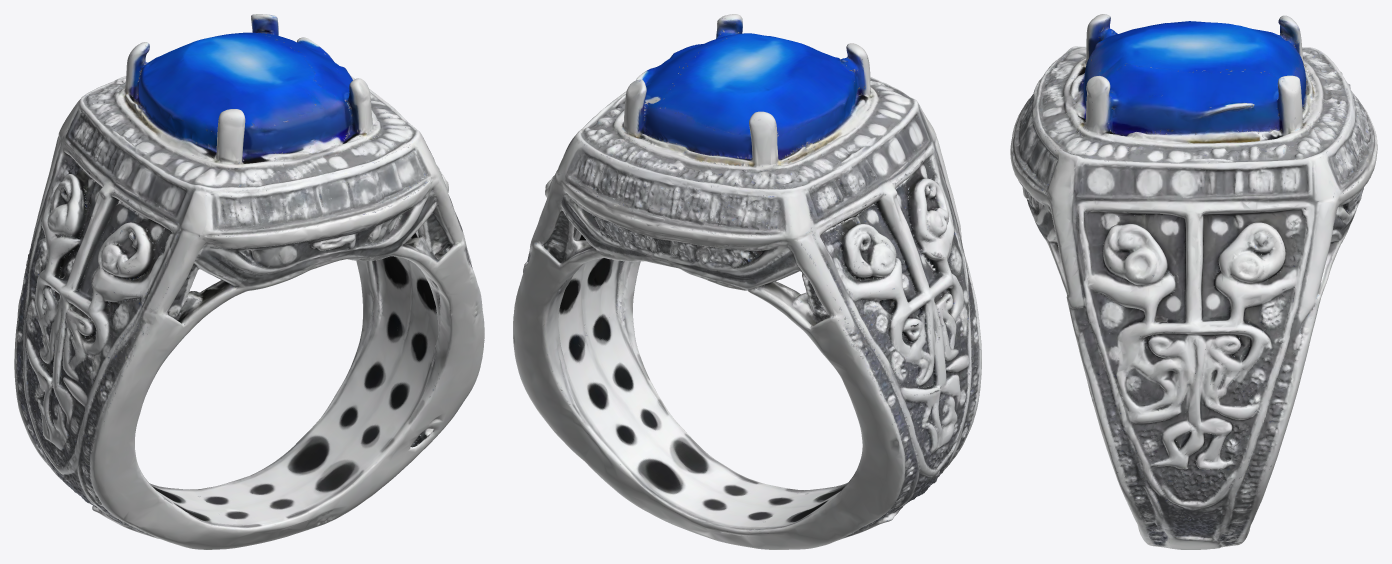
The model's file is ring-2026.glb.
3 views of the same model, side by side, from view 1: azimuth 30°, elevation 25°; view 2: azimuth 150°, elevation 25°; view 3: azimuth 270°, elevation 25° (orthographic).
Size of the model in its own units: 1.77 by 2 by 1.39.
Materials: 1 (1 with a texture image).
